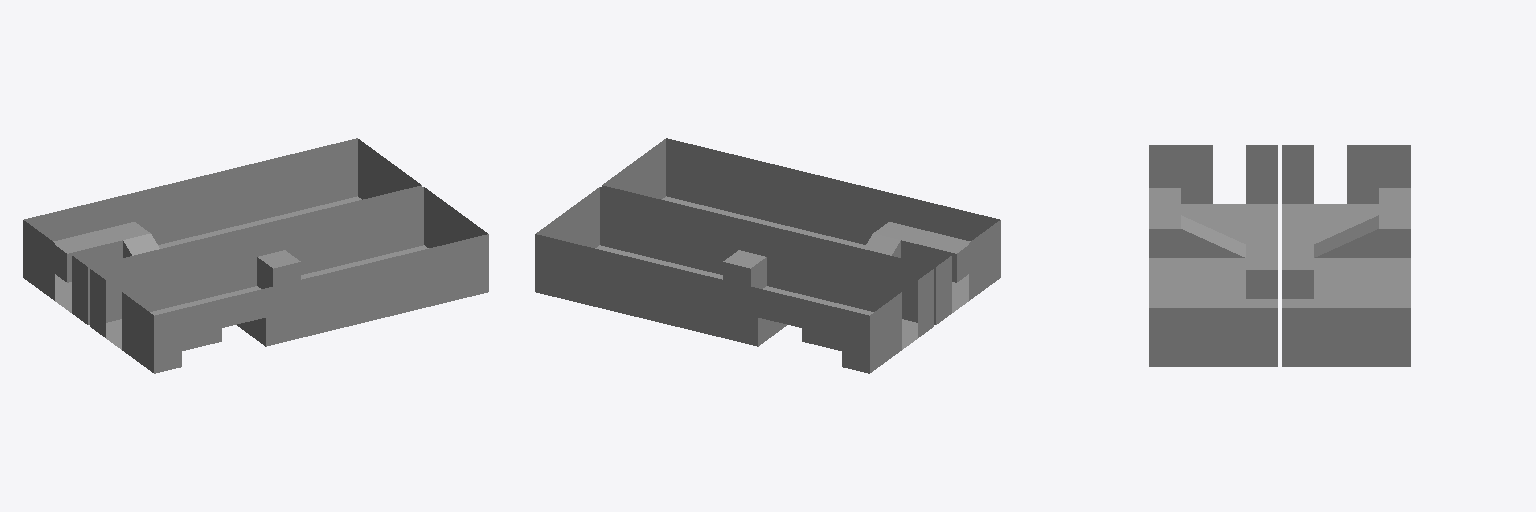
File: Leveldemo.obj
3 renders of one model, left to right at view 1: azimuth 30°, elevation 25°; view 2: azimuth 150°, elevation 25°; view 3: azimuth 270°, elevation 25°, orthographic.
Visible parts, largest first — view 1: Cube_Cube.001; view 2: Cube_Cube.001; view 3: Cube_Cube.001.
Part boxes in pixels (bbox=[...]): Cube_Cube.001: bbox=[23, 138, 488, 373]; Cube_Cube.001: bbox=[535, 138, 1000, 373]; Cube_Cube.001: bbox=[1149, 145, 1410, 366].
Size of the model in its own units: 6 by 1 by 4.07.